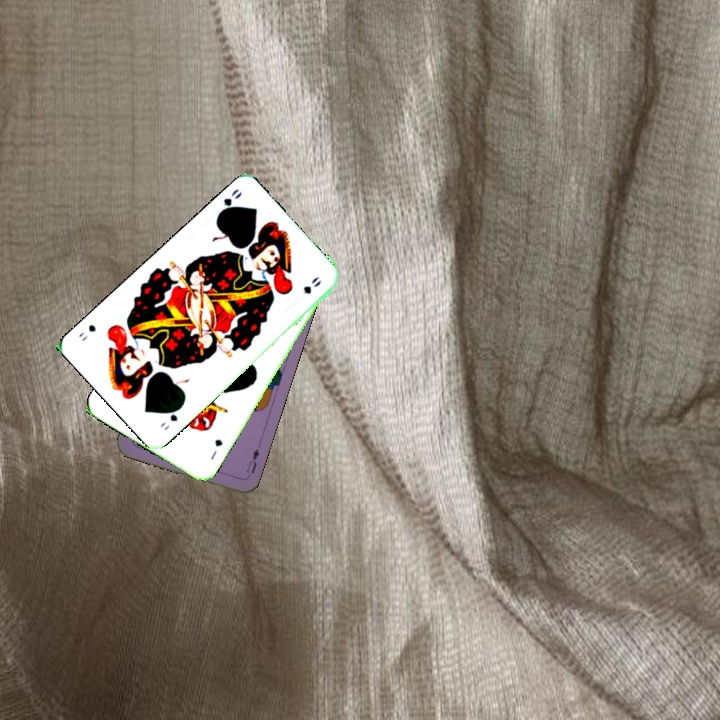EU: (242, 445, 262, 476)
GO: (213, 185, 245, 219), (156, 402, 185, 433)
GU: (206, 435, 225, 462)
